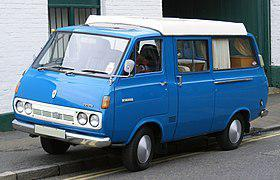Van: (13, 15, 272, 167)
